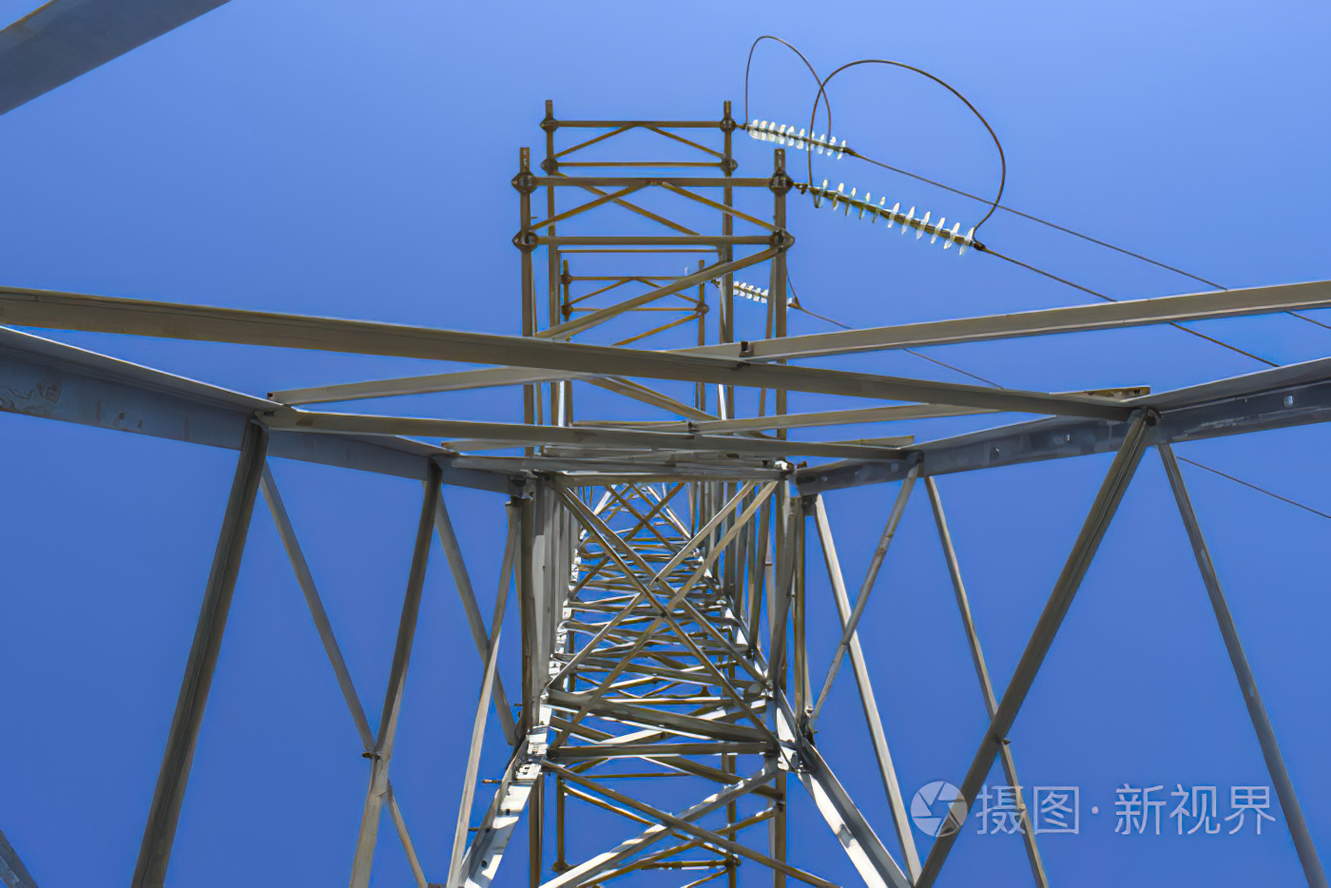insulator: (811, 176, 977, 257), (741, 118, 849, 161), (726, 276, 773, 308)
